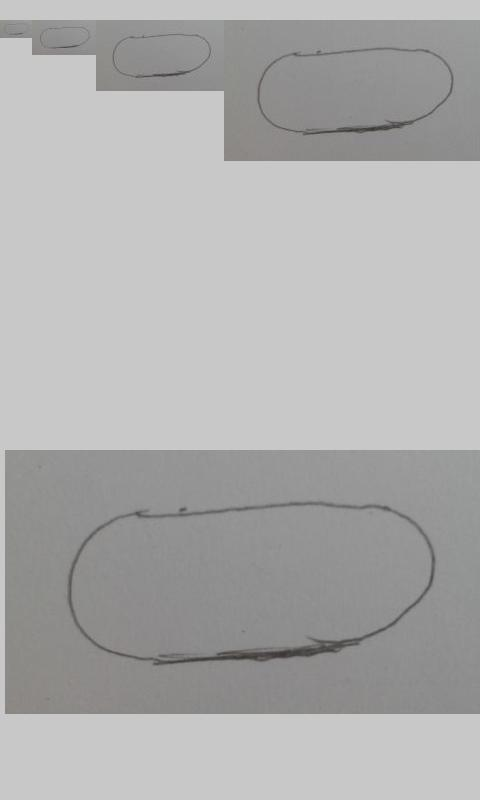chip: (64, 501, 437, 666), (257, 46, 455, 135), (112, 33, 213, 79), (39, 26, 91, 49), (2, 22, 31, 36)
